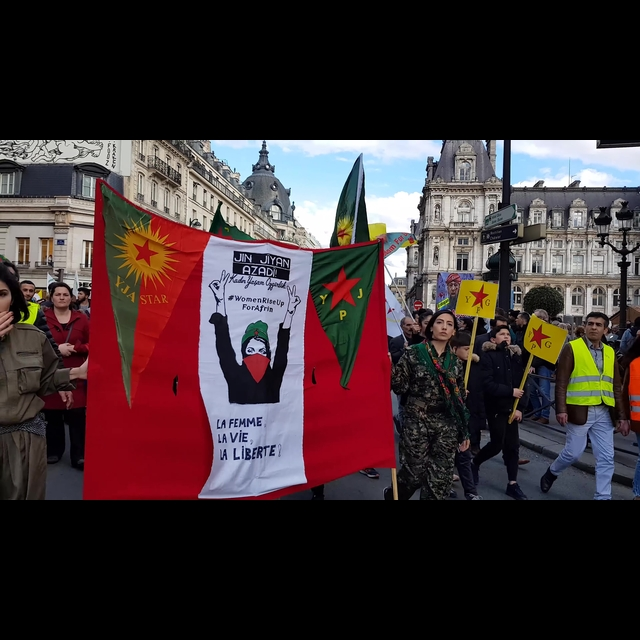KCK: (330, 152, 373, 243)
